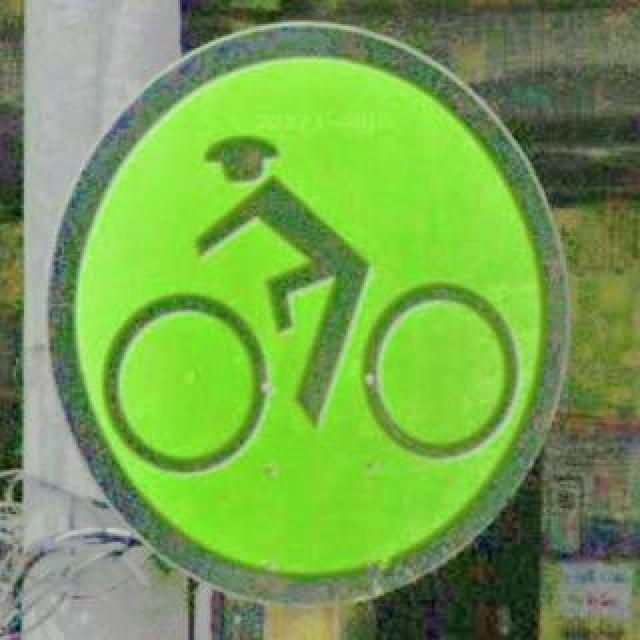bike lane: (48, 20, 572, 600)
